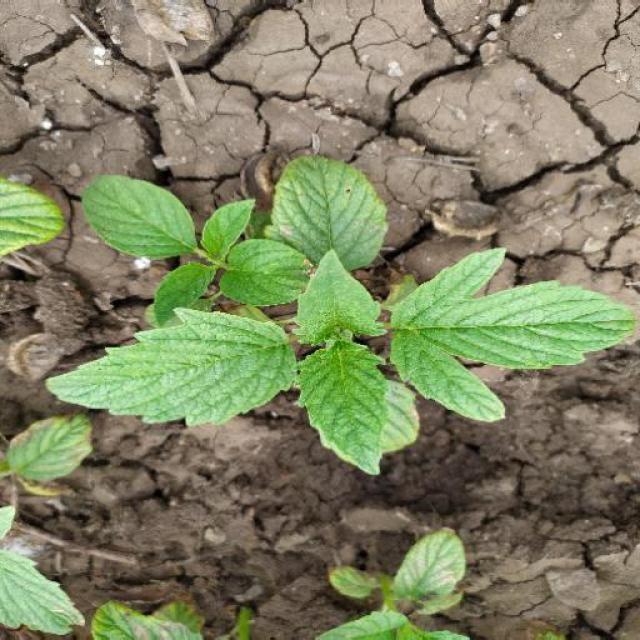weed: (56, 131, 632, 459)
